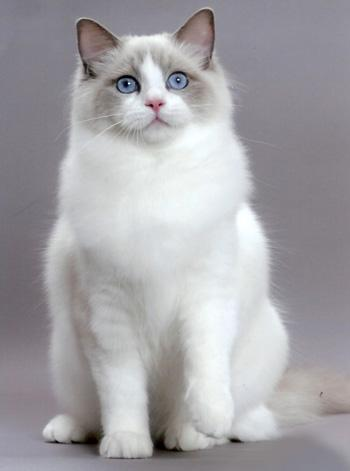ragdoll: (71, 7, 227, 157)
